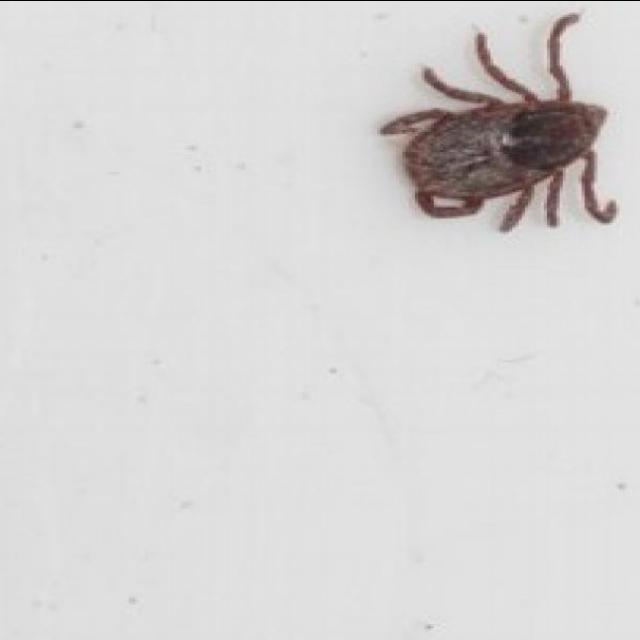Rhipicephalus Sanguineus-F: (377, 9, 616, 231)
